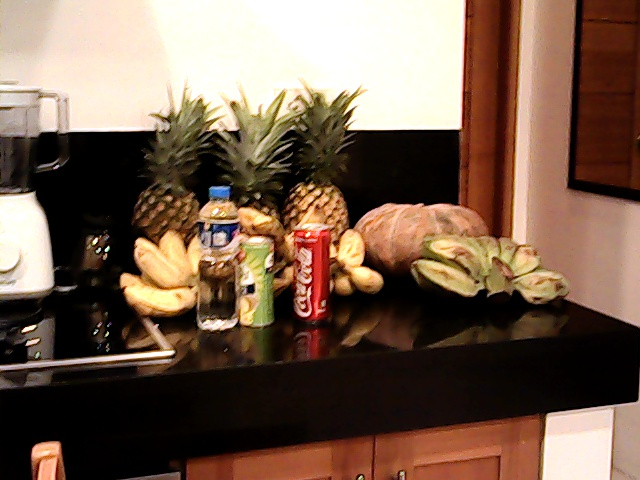Cola: (287, 217, 342, 329)
Pine Juice: (233, 230, 278, 325)
Summit Water: (187, 177, 241, 338)
